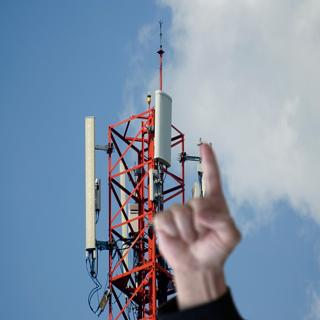IRRITATED: (149, 140, 244, 276)
